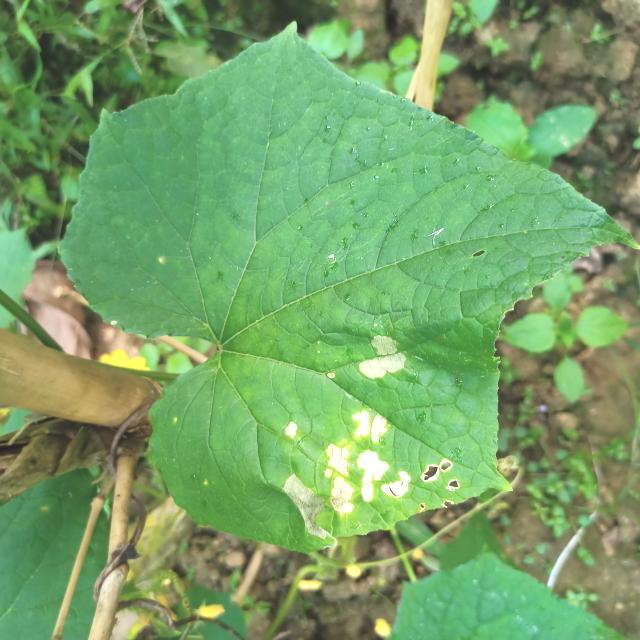disease_cucumber: (257, 402, 464, 542), (353, 330, 410, 384)
